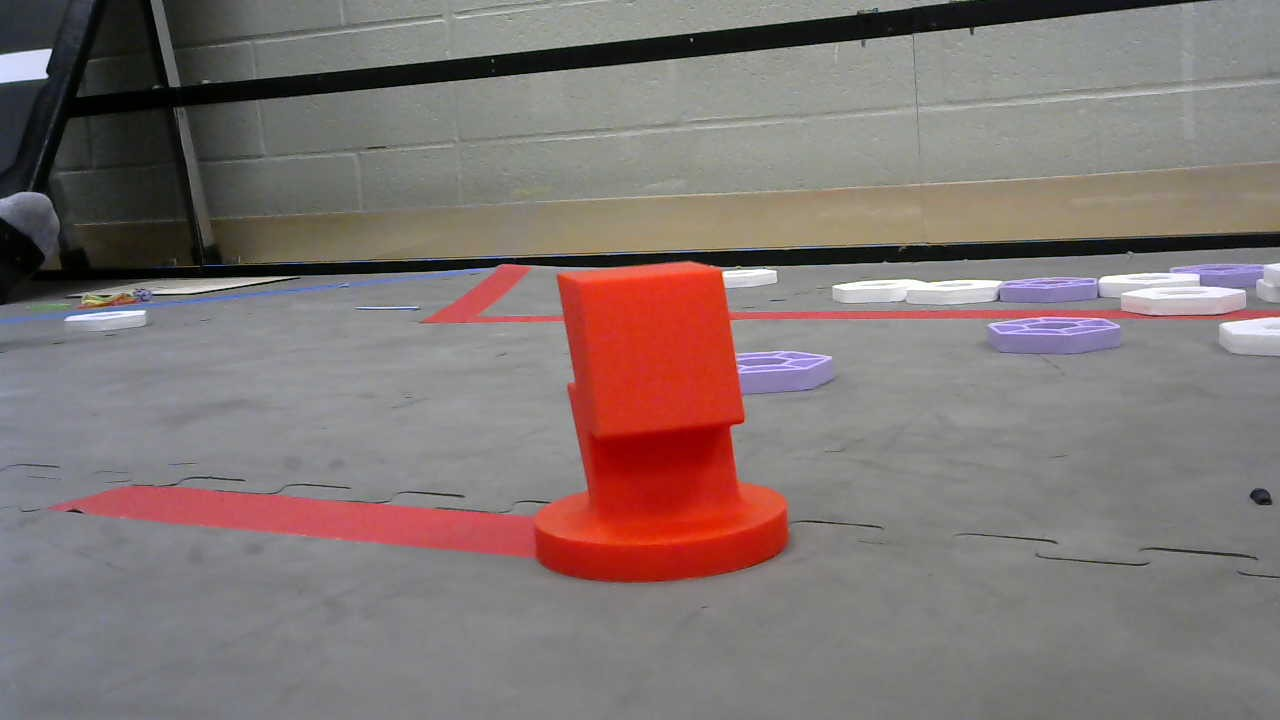redobject: (531, 257, 794, 586)
